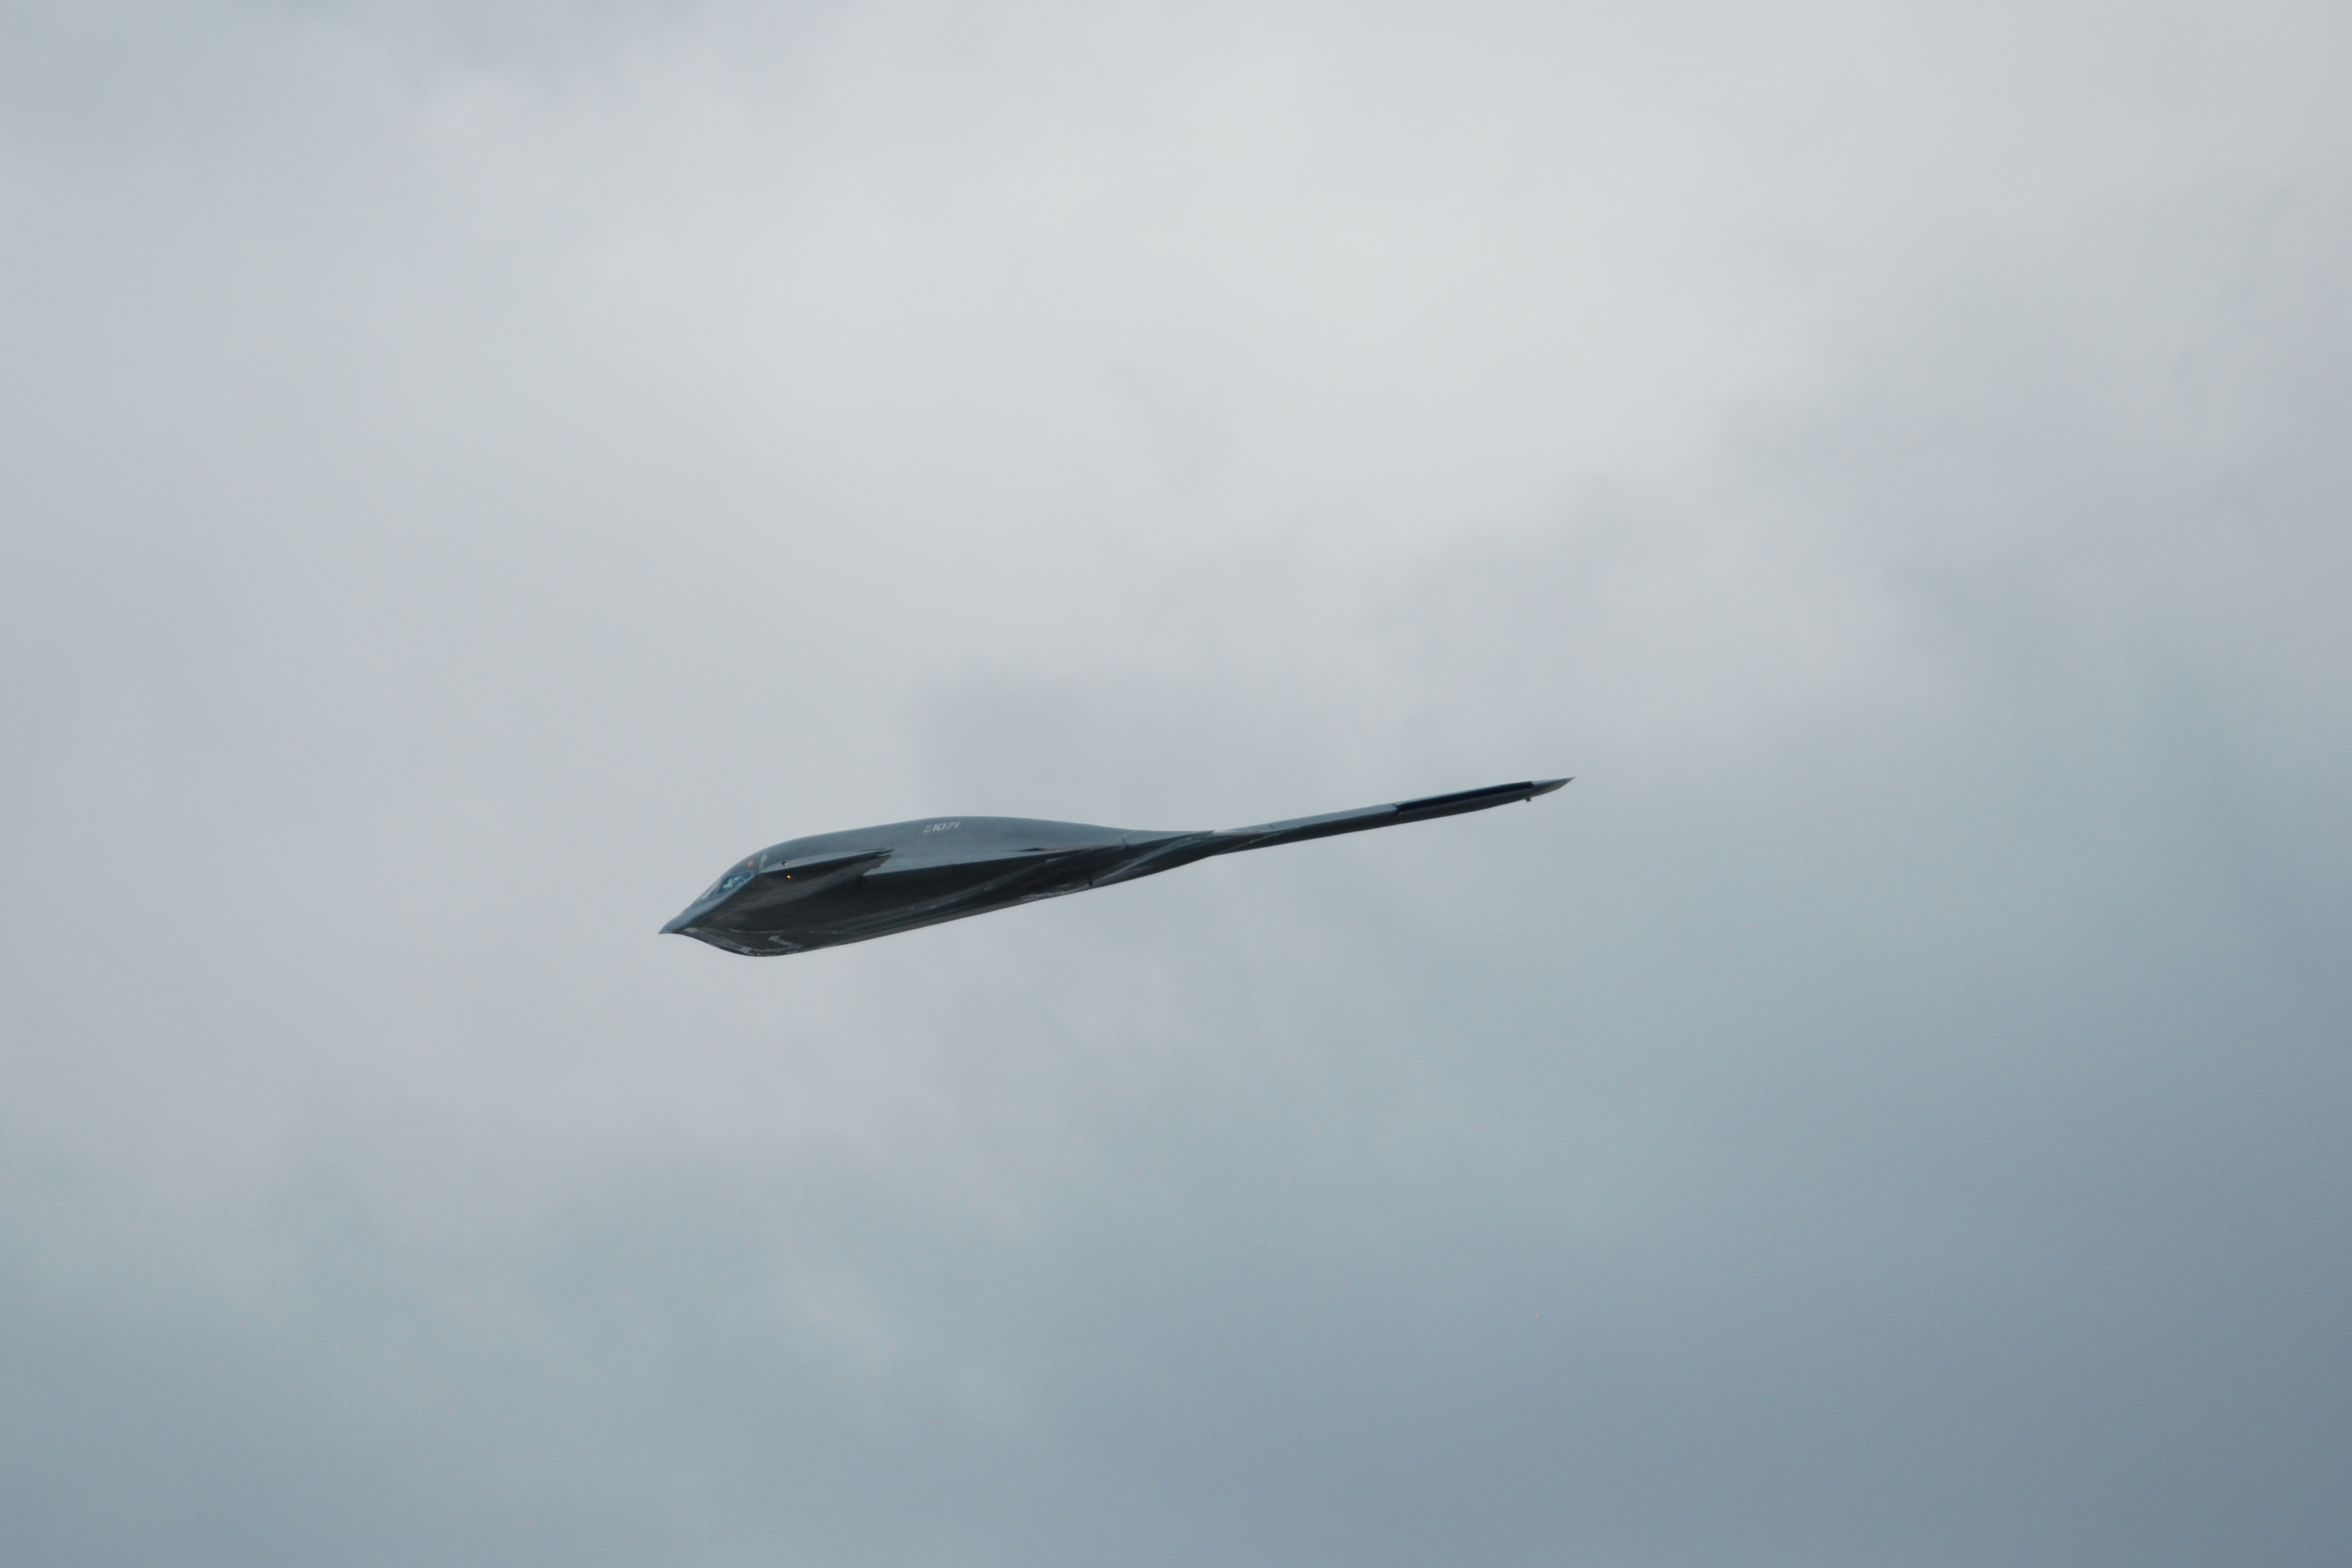B2: (656, 775, 1577, 957)
